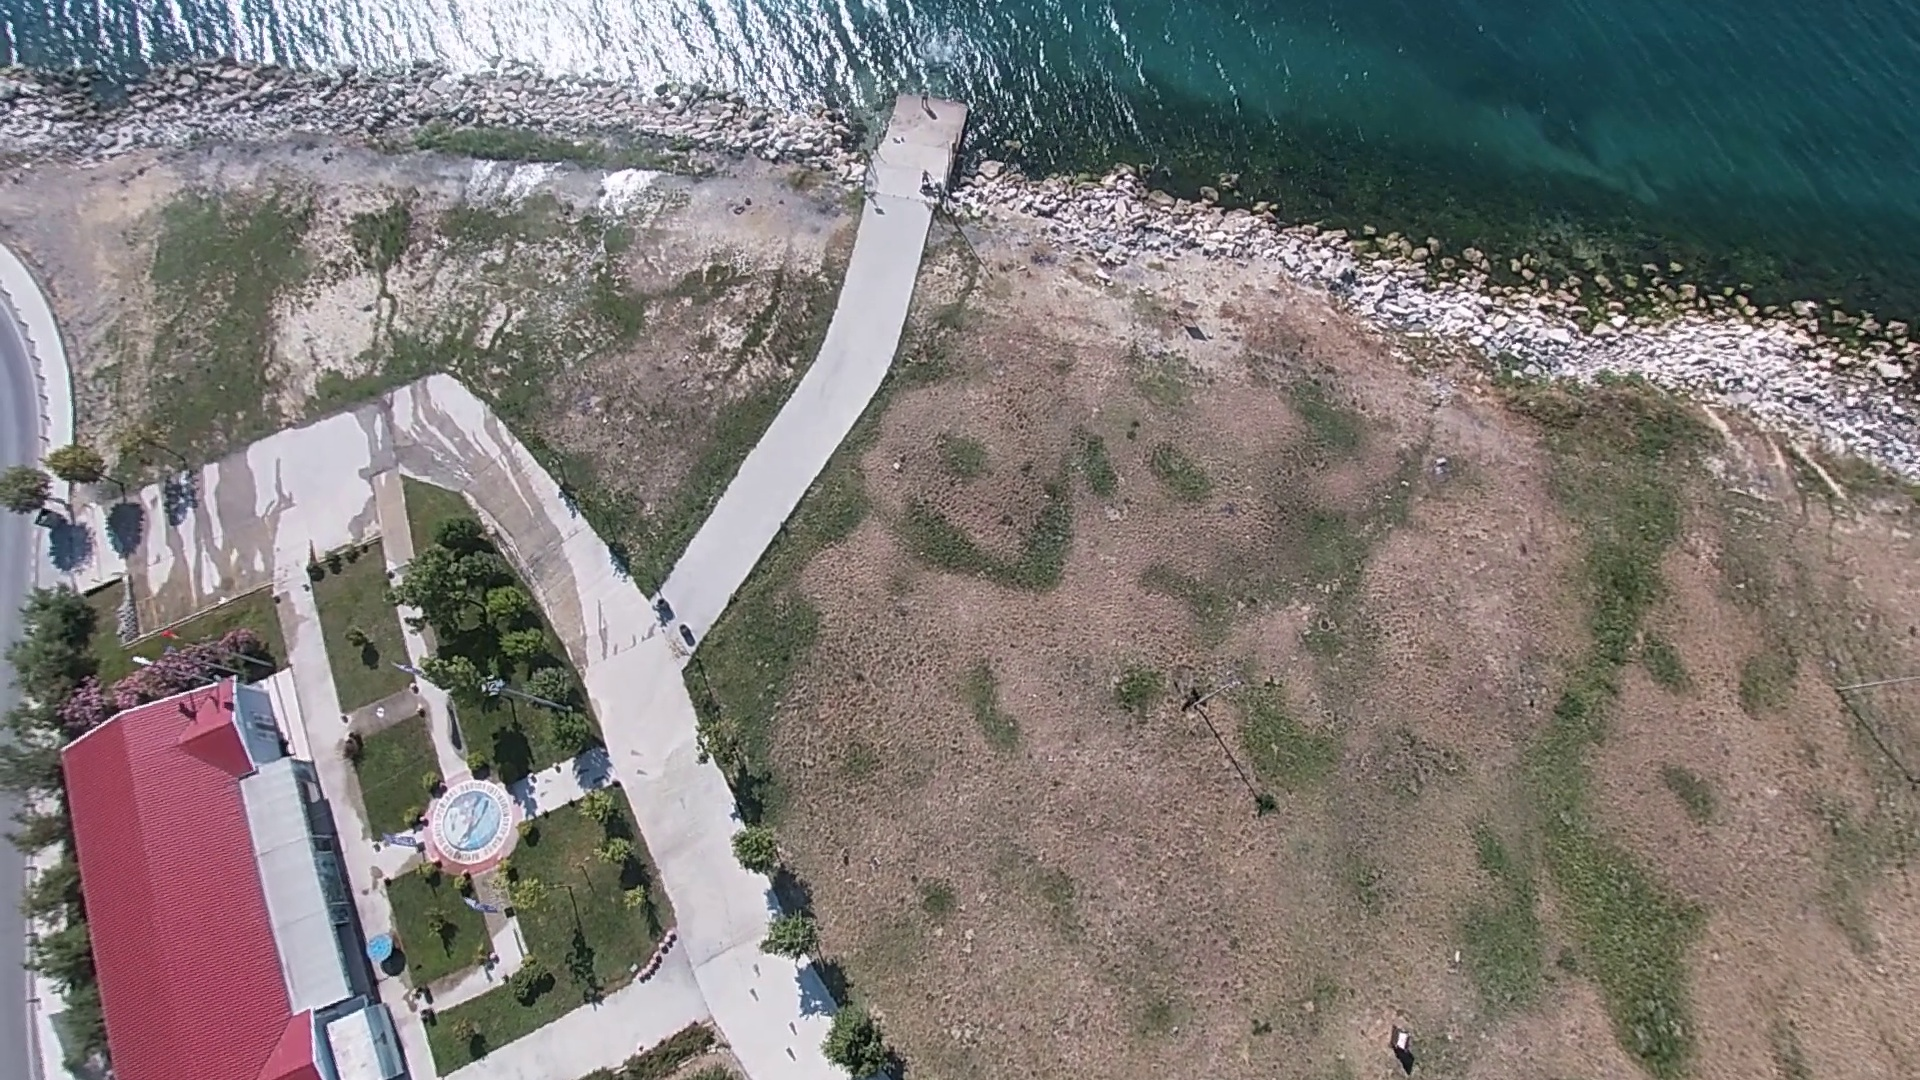insan: (912, 77, 933, 115)
